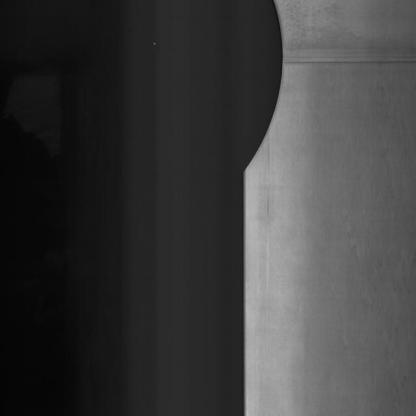crescent_gap: (229, 0, 290, 179)
